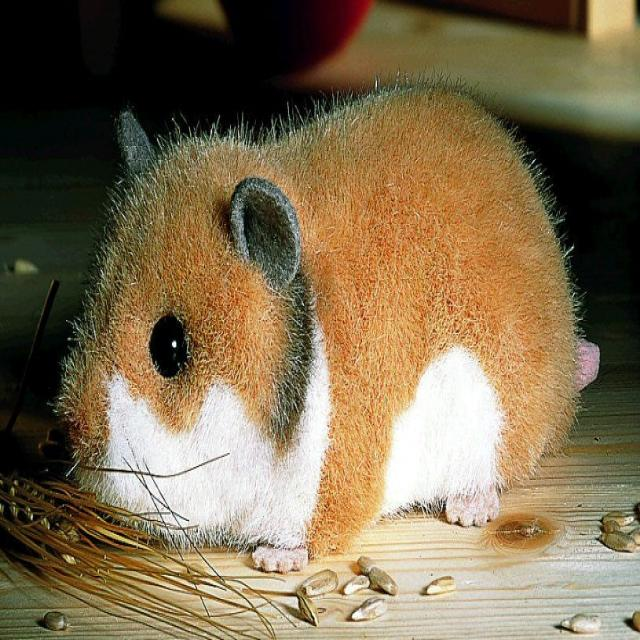hamster: (61, 71, 604, 574)
